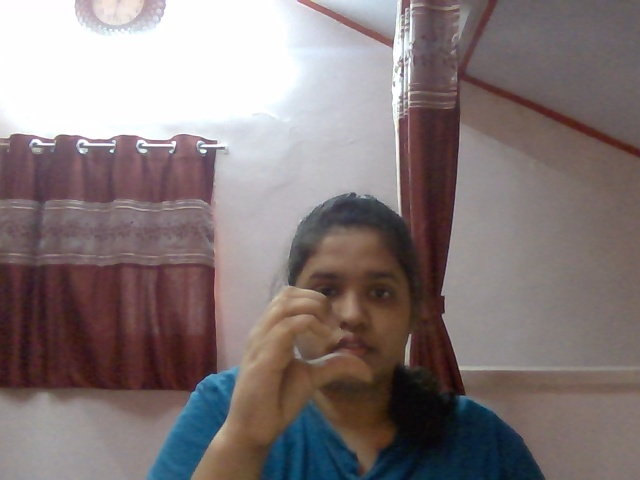c: (221, 275, 384, 427)
